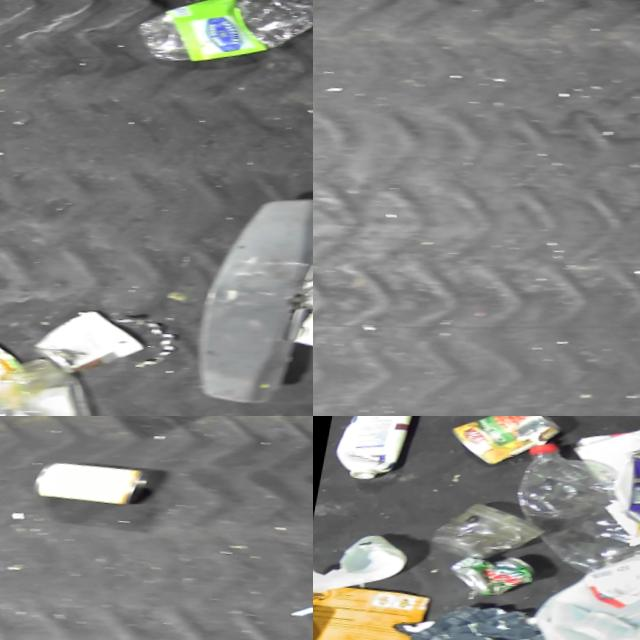can: (27, 454, 151, 520), (444, 416, 569, 479), (446, 550, 542, 608)
milk_jug: (524, 532, 640, 640)
plastic_bottle: (503, 432, 640, 595), (128, 0, 313, 93)
